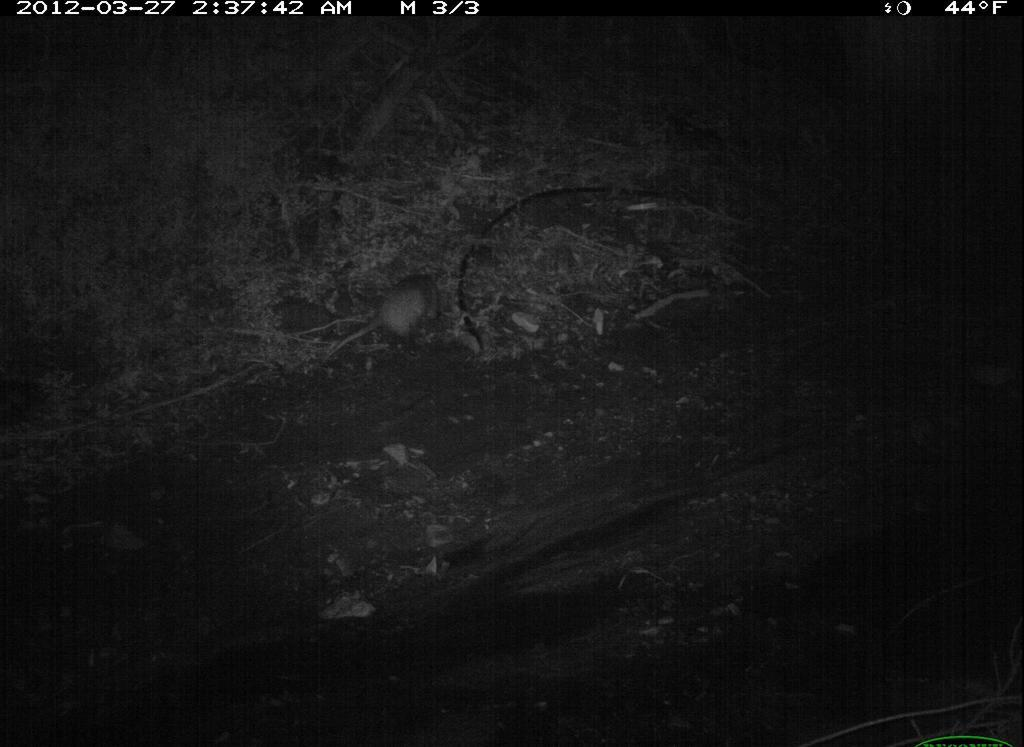opossum: (315, 262, 451, 378)
